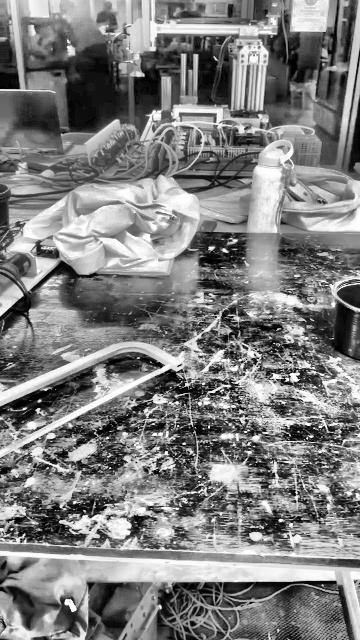pot: (331, 278, 360, 360)
